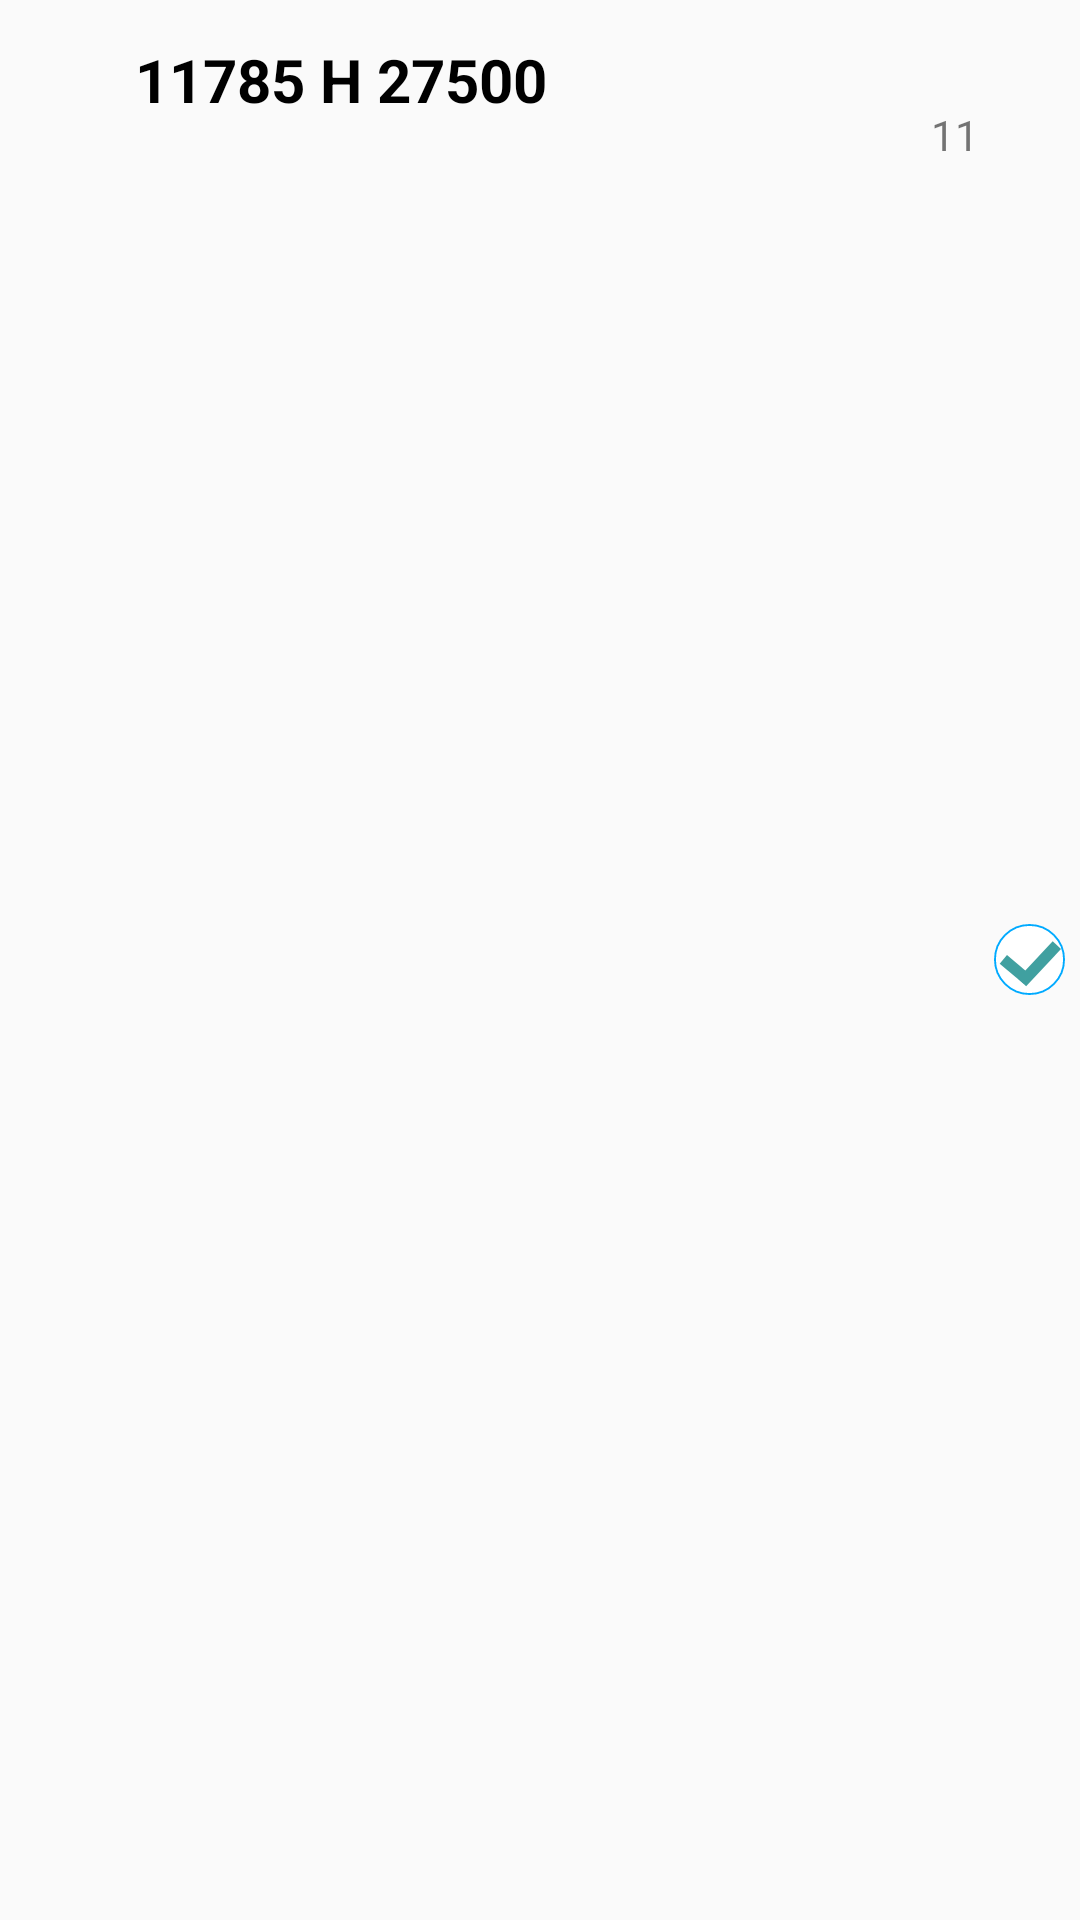

Where icons sit on this 1080 x 1920 app screen, as (x1, y1, x2, y2):
check: (994, 924, 1065, 995)
